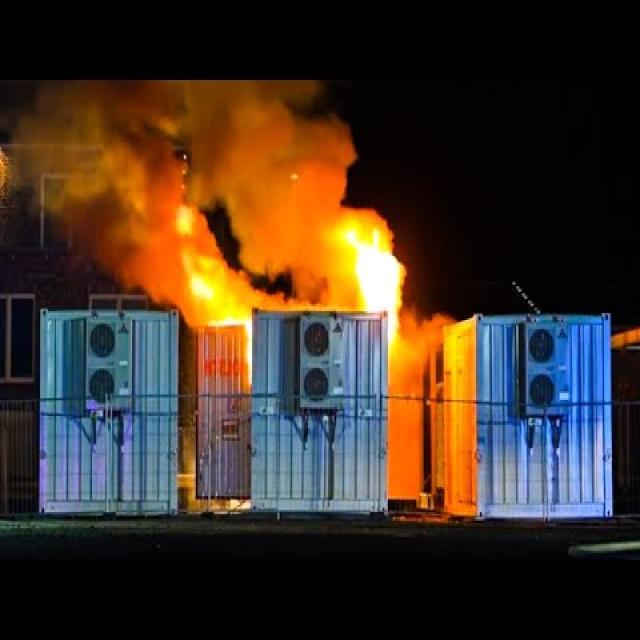fire: (53, 86, 423, 310)
